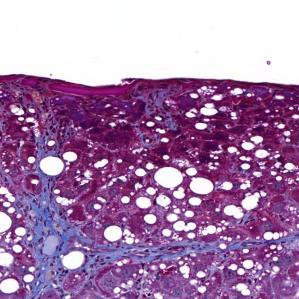fibrosis: (19, 201, 106, 278)
